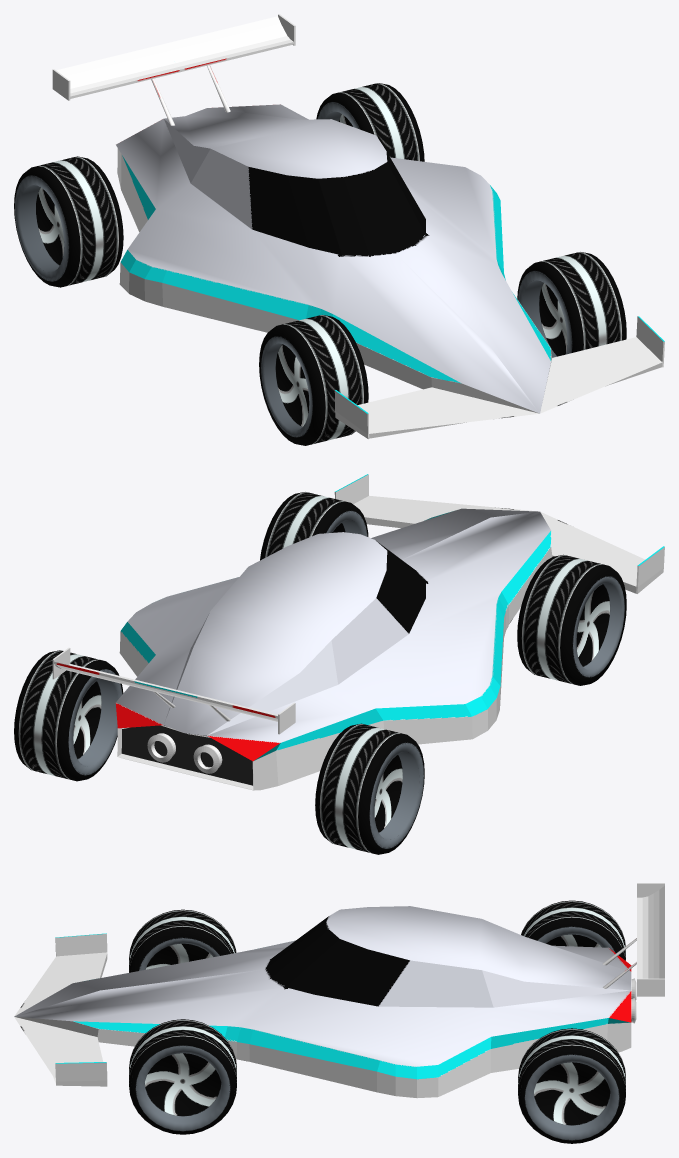
File: basicCar.fbx
3 renders of one model, top to bottom at view 1: azimuth 30°, elevation 25°; view 2: azimuth 150°, elevation 25°; view 3: azimuth 270°, elevation 25°, orthographic. The views are drawn at different scales.
Visible parts, largest first — view 1: DefaultCar, Tire.002, Tire, Tire.001, Tire.003; view 2: DefaultCar, Tire, Tire.002, Tire.003, Tire.001; view 3: DefaultCar, Tire.003, Tire.001, Tire, Tire.002.
Boxes of the visible parts, <box> form: DefaultCar: <box>52,14,664,438</box>; Tire.002: <box>14,156,123,287</box>; Tire: <box>259,315,368,445</box>; Tire.001: <box>517,252,626,357</box>; Tire.003: <box>316,83,424,161</box>; DefaultCar: <box>52,474,664,790</box>; Tire: <box>517,554,626,685</box>; Tire.002: <box>315,723,424,854</box>; Tire.003: <box>14,650,123,781</box>; Tire.001: <box>260,492,368,560</box>; DefaultCar: <box>14,883,664,1098</box>; Tire.003: <box>518,1028,625,1143</box>; Tire.001: <box>129,1019,236,1134</box>; Tire: <box>129,909,236,972</box>; Tire.002: <box>521,900,625,960</box>.
Size of the model in its own units: 167 by 76.09 by 301.
Materials: 5 (5 with a texture image).
